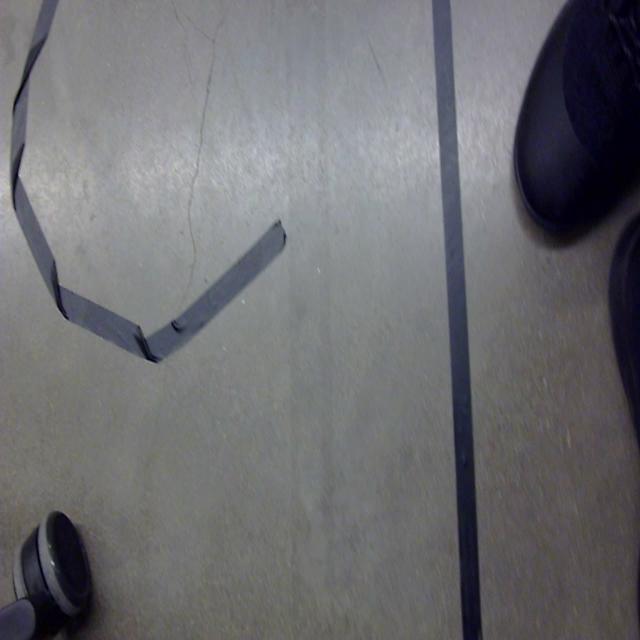tape: (10, 0, 288, 364), (432, 0, 484, 640)
